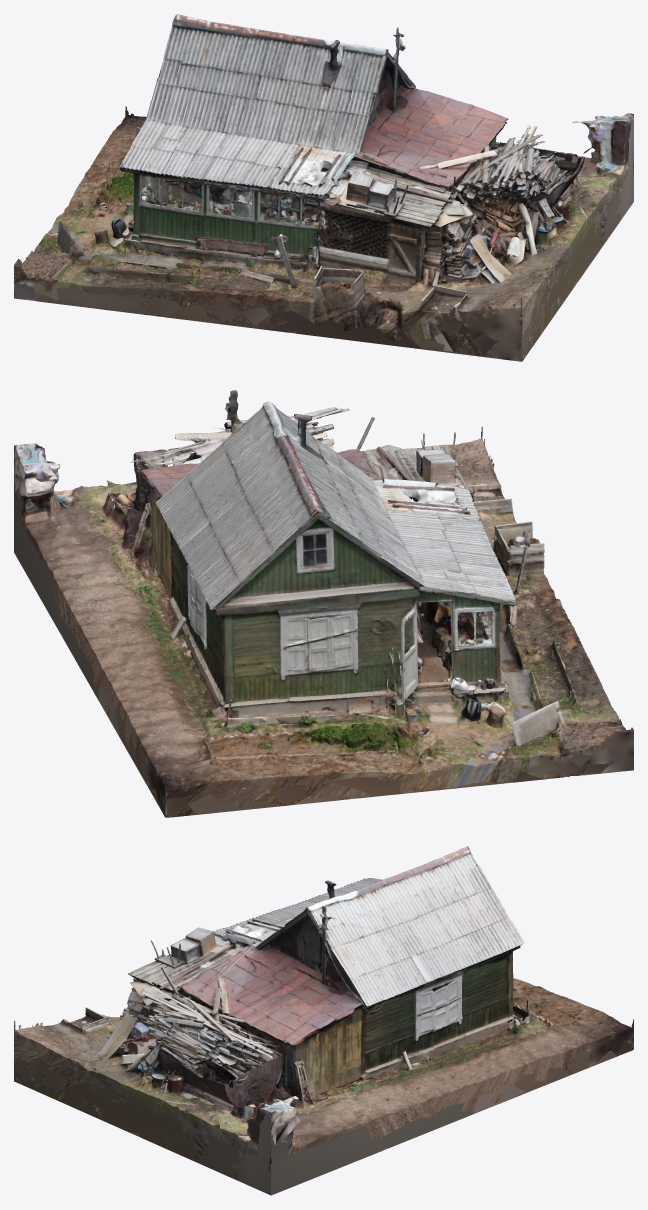
3 renders of one model, top to bottom at view 1: azimuth 30°, elevation 25°; view 2: azimuth 150°, elevation 25°; view 3: azimuth 270°, elevation 25°, orthographic. The views are drawn at different scales.
Visible parts, largest first — view 1: Object_5, Object_4__misc, Object_3__misc, Object_2__misc, Object_2__part_004, Object_4__part_001, Object_3__part_001, Object_2__part_001, Object_2__part_003, Object_2__part_005, Object_4__part_007, Object_3__part_004 (+18 smaller); view 2: Object_5, Object_2__misc, Object_2__part_001, Object_3__misc, Object_2__part_002, Object_4__misc, Object_2__part_003, Object_2__part_007, Object_4__part_001, Object_3__part_002, Object_2__part_004, Object_4__part_003 (+16 smaller); view 3: Object_3__misc, Object_4__misc, Object_2__misc, Object_5, Object_3__part_001, Object_2__part_007, Object_2__part_002, Object_3__part_003, Object_3__part_005, Object_4__part_003, Object_3__part_002, Object_2__part_032 (+16 smaller).
Boxes of the visible parts, bbox=[...] form: Object_5: bbox=[104, 16, 531, 361]; Object_4__misc: bbox=[148, 29, 616, 361]; Object_3__misc: bbox=[274, 27, 633, 305]; Object_2__misc: bbox=[14, 40, 633, 346]; Object_2__part_004: bbox=[244, 29, 401, 211]; Object_4__part_001: bbox=[119, 30, 291, 191]; Object_3__part_001: bbox=[361, 86, 542, 185]; Object_2__part_001: bbox=[34, 116, 146, 265]; Object_2__part_003: bbox=[21, 251, 252, 296]; Object_2__part_005: bbox=[363, 270, 552, 311]; Object_4__part_007: bbox=[214, 39, 302, 96]; Object_3__part_004: bbox=[333, 164, 450, 220]; Object_5: bbox=[99, 473, 577, 786]; Object_2__misc: bbox=[14, 414, 633, 817]; Object_2__part_001: bbox=[153, 698, 586, 789]; Object_3__misc: bbox=[14, 390, 466, 654]; Object_2__part_002: bbox=[45, 560, 220, 727]; Object_4__misc: bbox=[41, 407, 516, 704]; Object_2__part_003: bbox=[501, 607, 625, 748]; Object_2__part_007: bbox=[178, 408, 294, 579]; Object_4__part_001: bbox=[309, 480, 516, 601]; Object_3__part_002: bbox=[26, 482, 166, 591]; Object_2__part_004: bbox=[266, 407, 471, 532]; Object_4__part_003: bbox=[215, 482, 310, 574]; Object_3__misc: bbox=[58, 891, 457, 1195]; Object_4__misc: bbox=[14, 871, 512, 1138]; Object_2__misc: bbox=[14, 880, 633, 1194]; Object_5: bbox=[14, 847, 614, 1112]; Object_3__part_001: bbox=[182, 945, 361, 1045]; Object_2__part_007: bbox=[311, 875, 477, 981]; Object_2__part_002: bbox=[343, 1025, 537, 1129]; Object_3__part_003: bbox=[365, 987, 447, 1070]; Object_3__part_005: bbox=[295, 1019, 406, 1094]; Object_4__part_003: bbox=[417, 854, 496, 946]; Object_3__part_002: bbox=[188, 1086, 345, 1147]; Object_2__part_032: bbox=[45, 1052, 245, 1163].
Size of the model in its own units: 58.11 by 20.12 by 58.54.
1 material, 1 textured.
